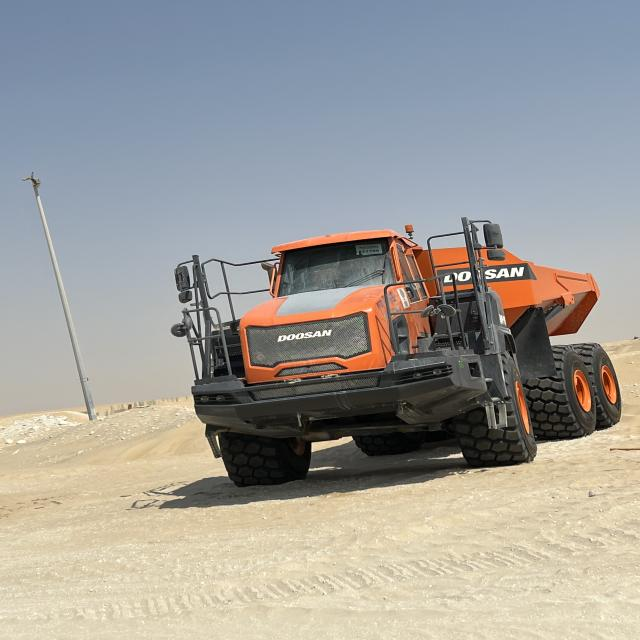dump_truck: (169, 209, 622, 498)
